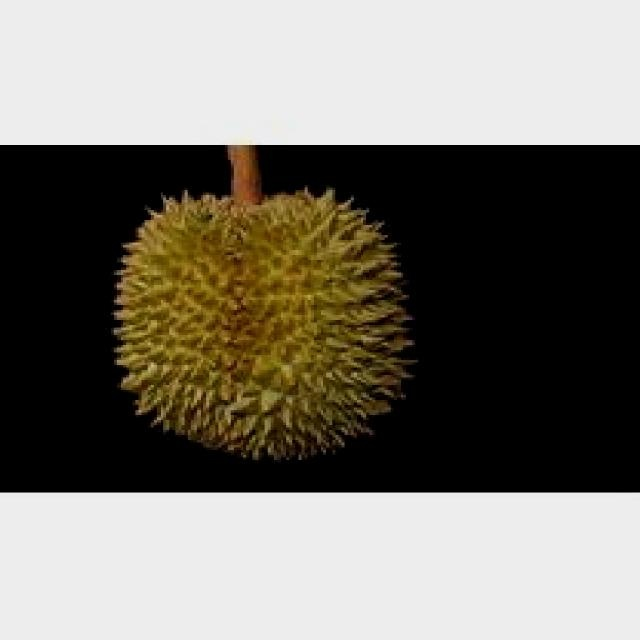agrume: (83, 165, 434, 480)
